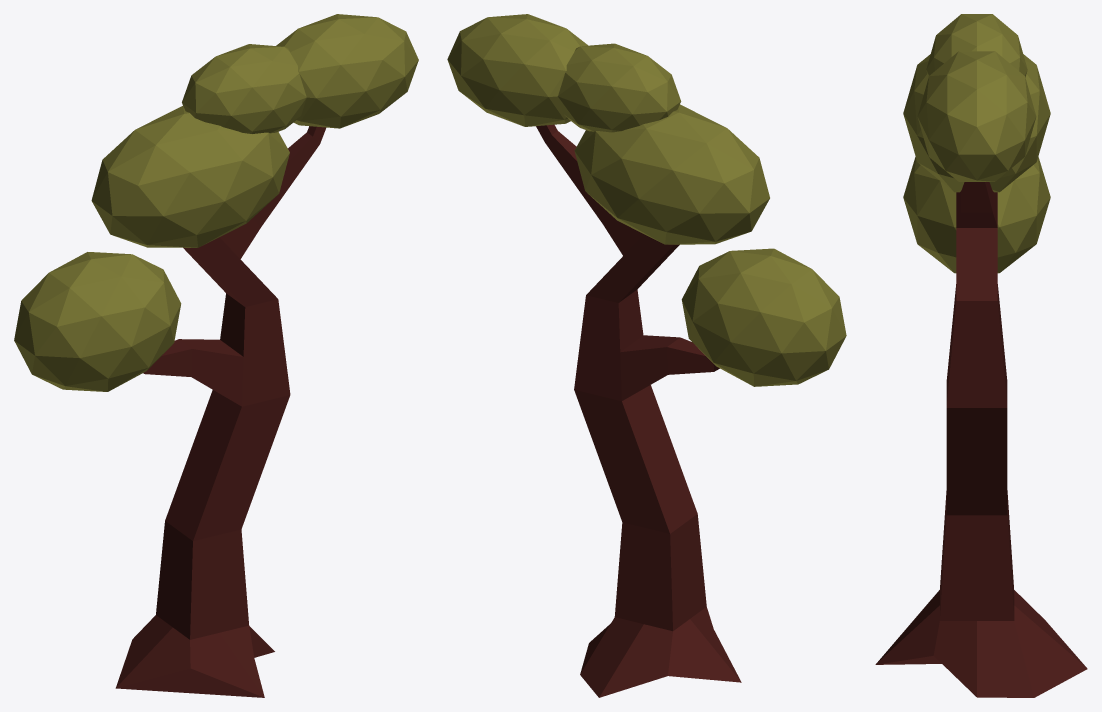
File: arvorenova3.fbx
The picture shows the model from 3 angles, left to right: view 1: azimuth 30°, elevation 25°; view 2: azimuth 150°, elevation 25°; view 3: azimuth 270°, elevation 25°; orthographic projection. The views are drawn at different scales.
Parts seen in each view (by area): view 1: Icosphere.003; view 2: Icosphere.003; view 3: Icosphere.003.
Boxes of the visible parts, box(x1,y1,x2,y2) form: Icosphere.003: box(14, 14, 418, 697); Icosphere.003: box(447, 14, 846, 697); Icosphere.003: box(875, 14, 1087, 697).
Size of the model in its own units: 729 by 1130 by 320.
